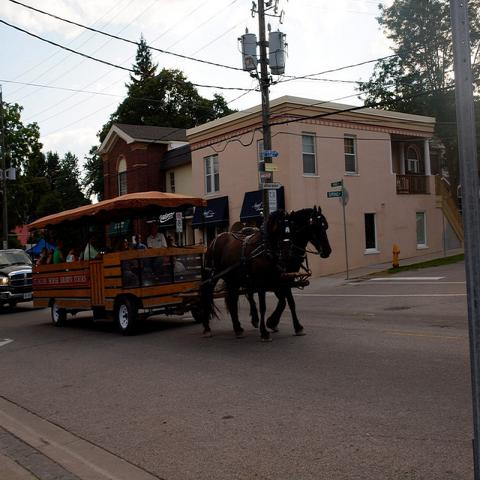truck: (0, 249, 33, 310)
